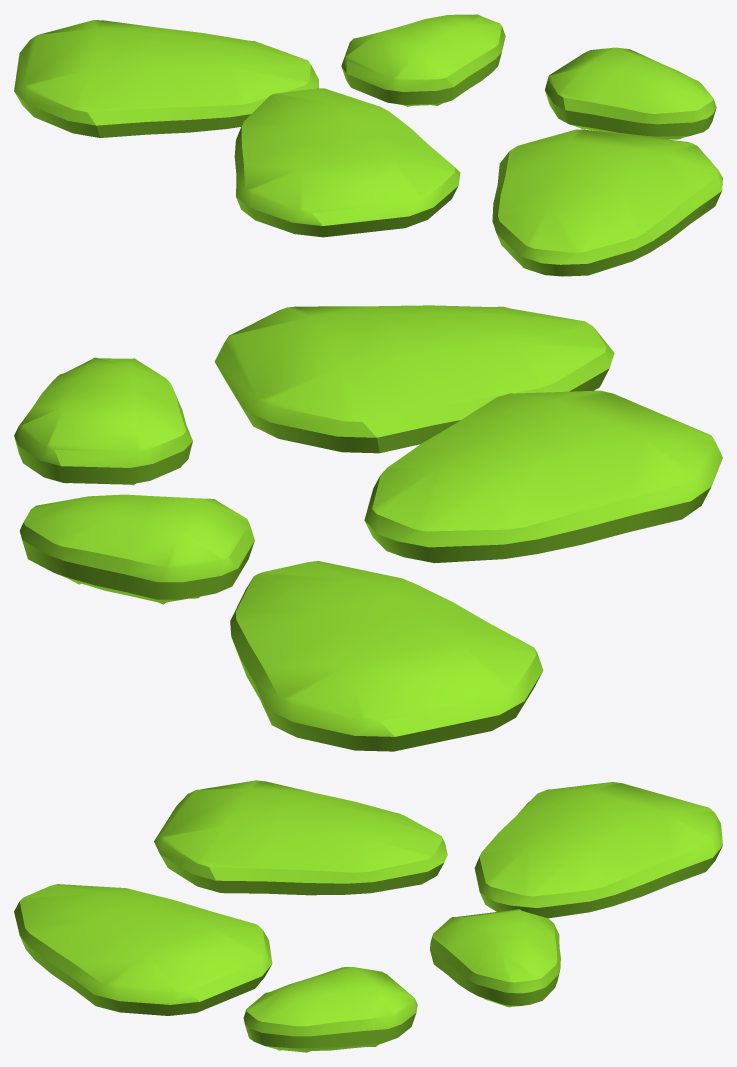
Rendered from Green1_seed.fbx.
The picture shows the model from 3 angles, top to bottom: view 1: azimuth 30°, elevation 25°; view 2: azimuth 150°, elevation 25°; view 3: azimuth 270°, elevation 25°; orthographic projection. The views are drawn at different scales.
Visible parts, largest first — view 1: seed1.056, seed1.057, seed1.060, seed1.062, seed1.059; view 2: seed1.060, seed1.056, seed1.057, seed1.059, seed1.062; view 3: seed1.060, seed1.057, seed1.056, seed1.062, seed1.059.
Part boxes in pixels (<box>): seed1.056: <box>14,20,318,137</box>; seed1.057: <box>492,129,722,276</box>; seed1.060: <box>234,88,460,237</box>; seed1.062: <box>545,47,716,139</box>; seed1.059: <box>341,14,505,106</box>; seed1.060: <box>364,390,722,563</box>; seed1.056: <box>230,561,543,751</box>; seed1.057: <box>214,305,614,453</box>; seed1.059: <box>20,494,254,604</box>; seed1.062: <box>14,357,192,485</box>; seed1.060: <box>154,780,447,895</box>; seed1.057: <box>14,884,272,1015</box>; seed1.056: <box>474,782,722,918</box>; seed1.062: <box>243,967,417,1052</box>; seed1.059: <box>430,909,560,1007</box>.
Bounding box in the file's own units: 81.54 × 11.79 × 99.39.
